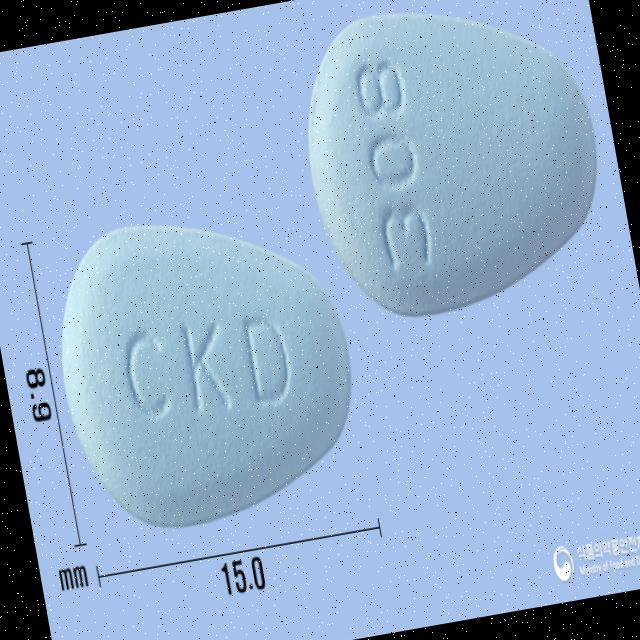Tenofobell Tab: (36, 186, 374, 545), (285, 0, 619, 333)
